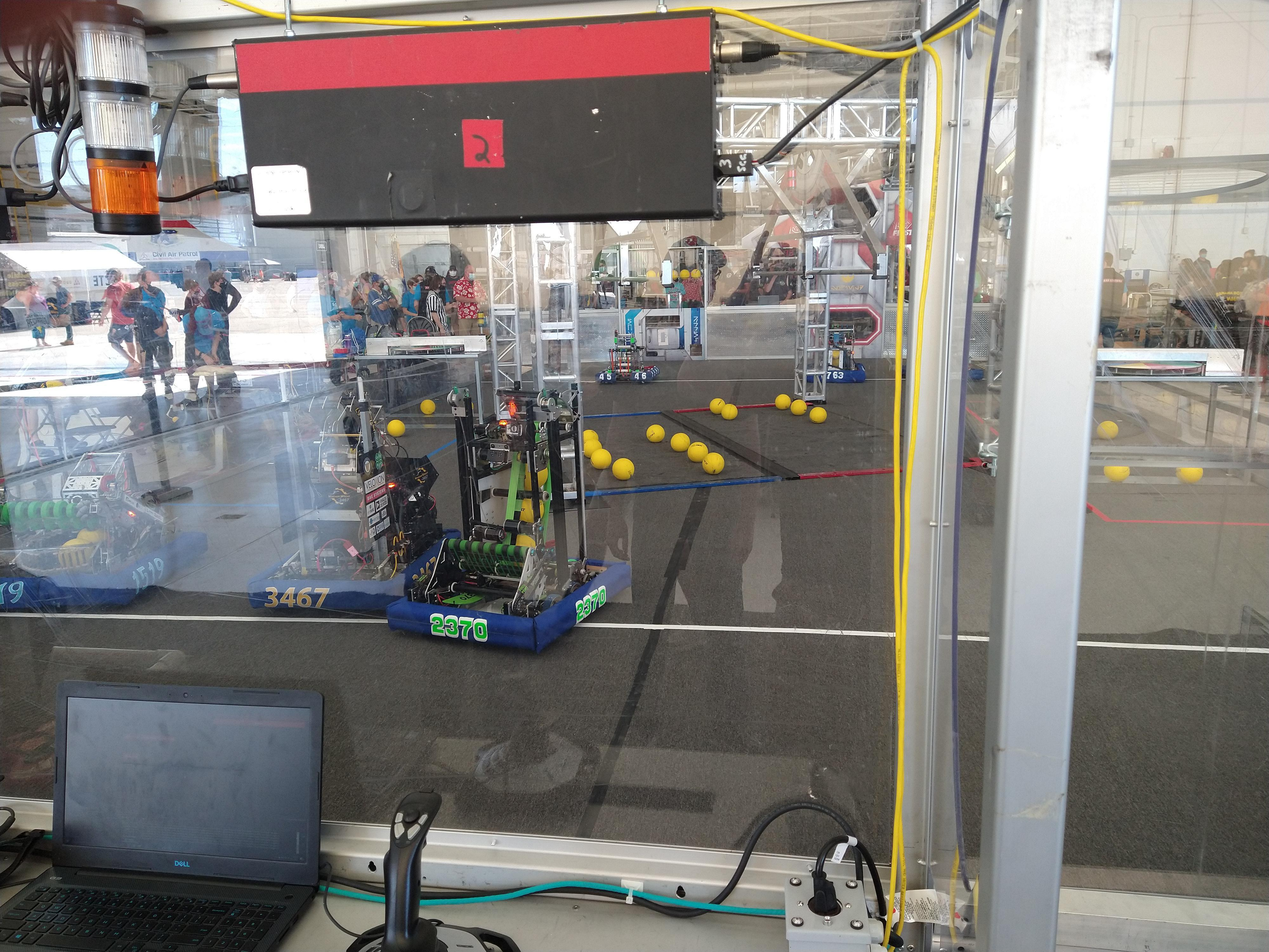robot: (384, 374, 612, 665), (0, 363, 217, 616), (254, 349, 411, 628), (593, 324, 673, 392), (793, 324, 876, 386)
